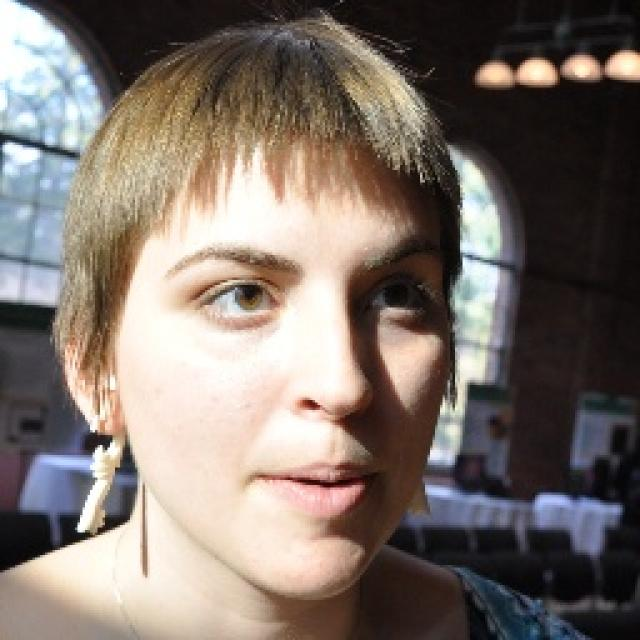earlobe: (85, 380, 129, 438)
eye: (200, 280, 280, 317), (362, 277, 436, 315)
nose: (280, 390, 386, 469)
